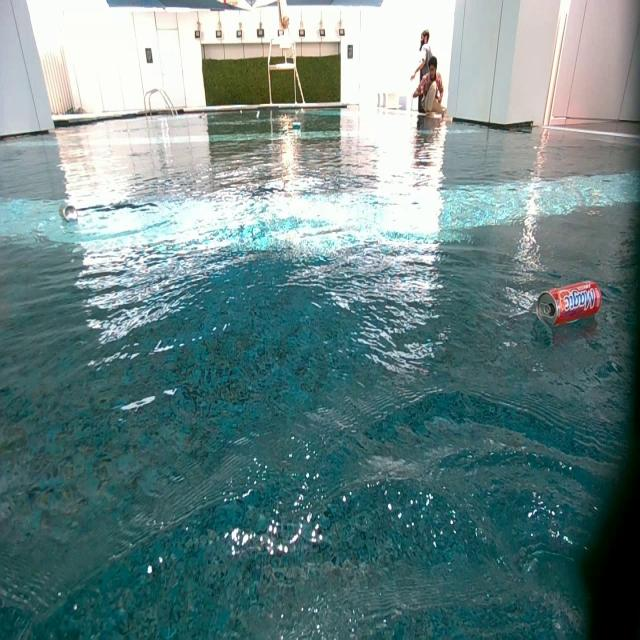Cans: (536, 280, 603, 328), (59, 202, 78, 222), (292, 120, 300, 133), (254, 110, 260, 119), (200, 114, 208, 120), (240, 110, 243, 115)
